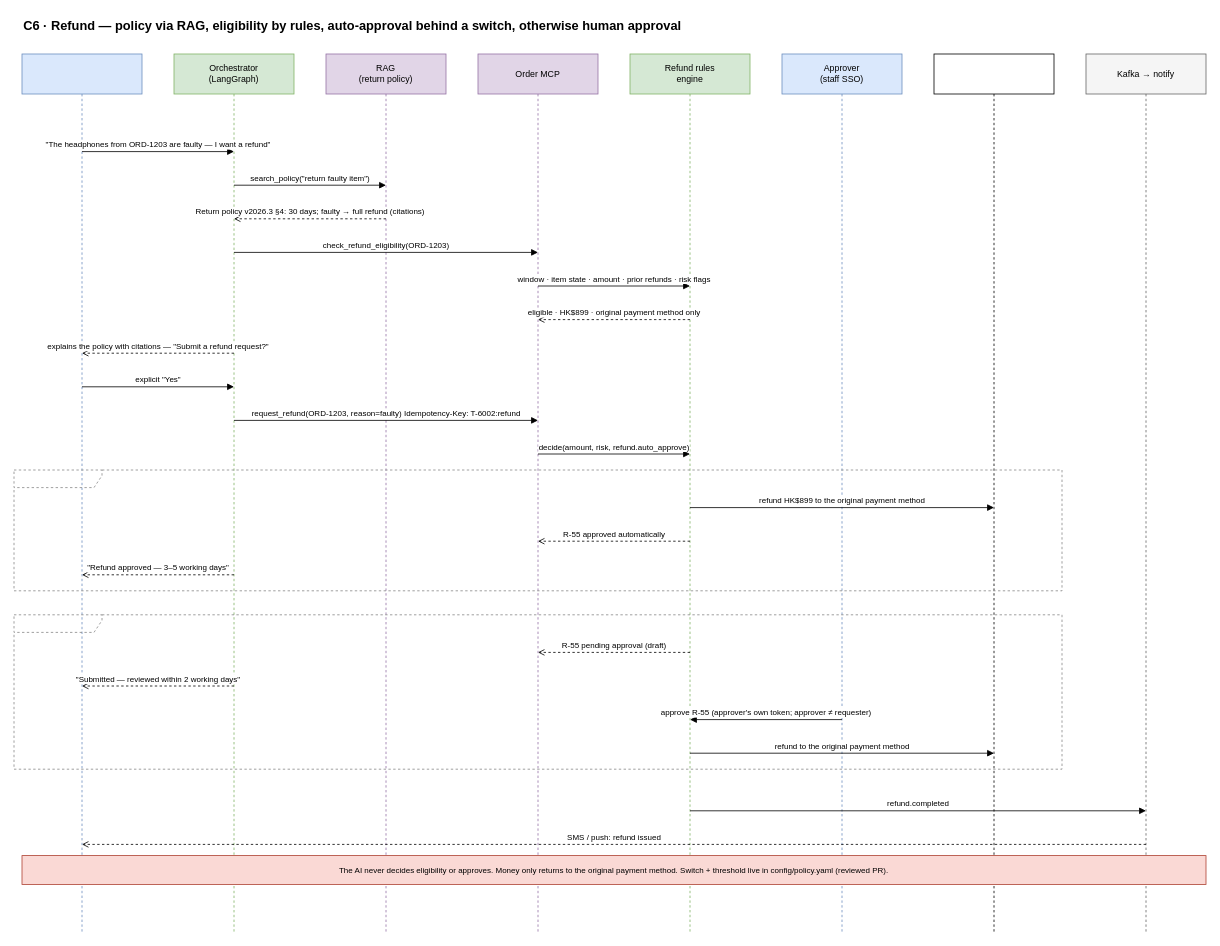
The diagram is 1220 pixels wide and 946 high, and some of its shapes have lost their labels. The shapes that lost their labels are listed below. From the top down, each one's box as (x1, y1, x2, y2) in pixels, then its label:
(21, 53, 142, 932): Customer
(933, 53, 1054, 932): Payments
(13, 469, 1062, 591): alt switch ON and amount ≤ threshold
(13, 614, 1062, 769): alt switch OFF, above threshold, or risk flag
